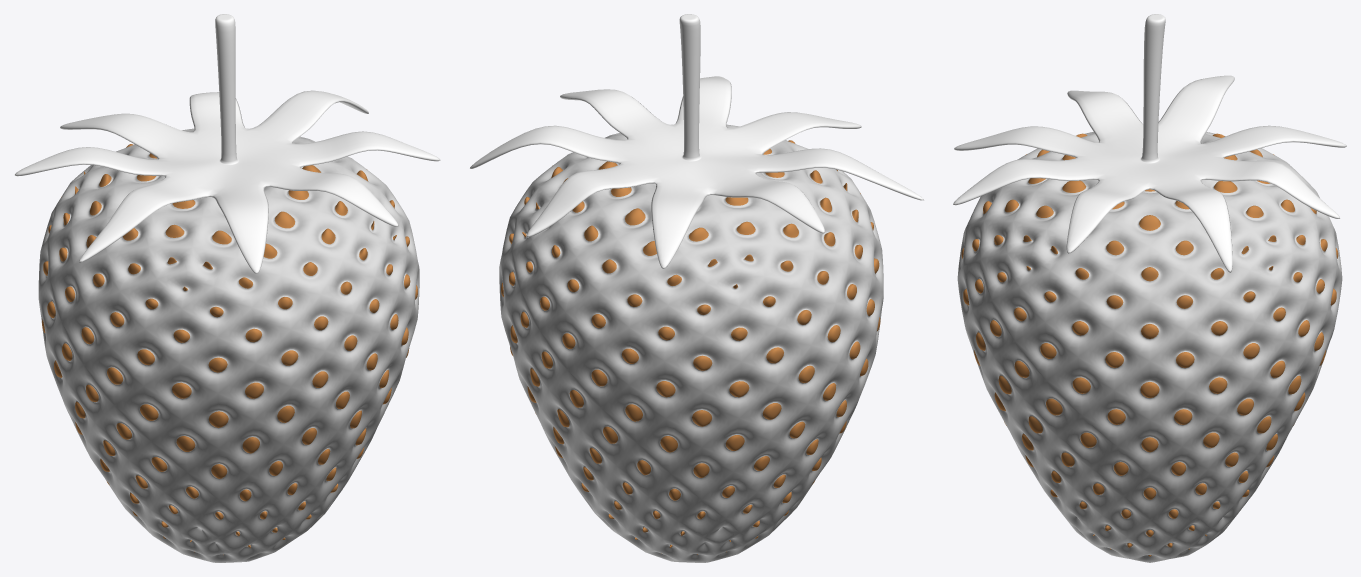
The model's file is strawberry.glb.
3 views of the same model, side by side, from view 1: azimuth 30°, elevation 25°; view 2: azimuth 150°, elevation 25°; view 3: azimuth 270°, elevation 25° (orthographic).
Visible parts, largest first — view 1: strawberry; view 2: strawberry; view 3: strawberry.
Part boxes in pixels (box(x1,y1,x2,y2)): strawberry: box(15, 14, 440, 562); strawberry: box(469, 14, 923, 562); strawberry: box(953, 14, 1346, 562).
Size of the model in its own units: 1.88 by 2.6 by 1.73.
